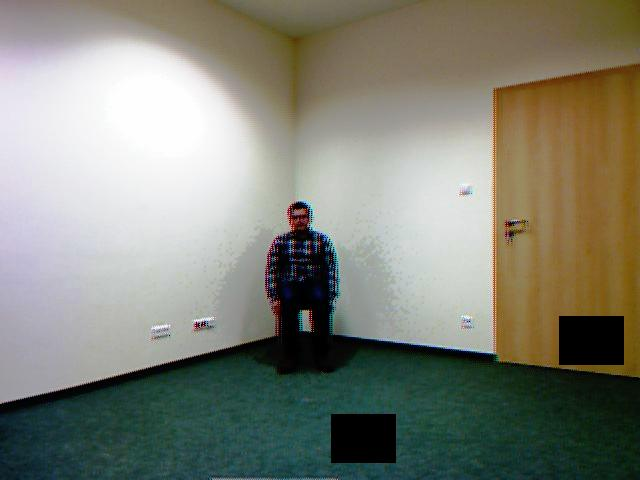sitting: (264, 190, 349, 384)
